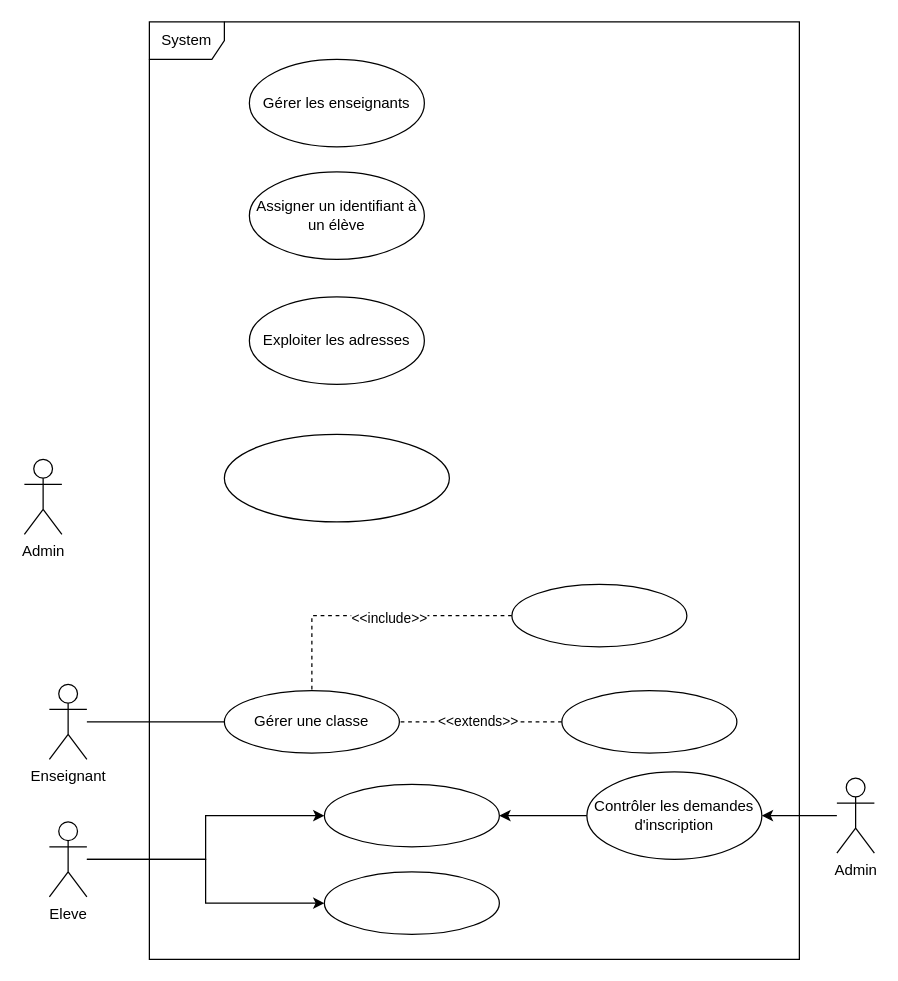
Image size: 898x981. Some labels were removed from this diagram. Each missing label, with the centre of its shape:
Enseigner: pixel 599 615
Evaluer: pixel 649 721
Organiser les cours: pixel 336 477
Participer à une classe: pixel 411 902
S'inscrire à l'école: pixel 411 815
